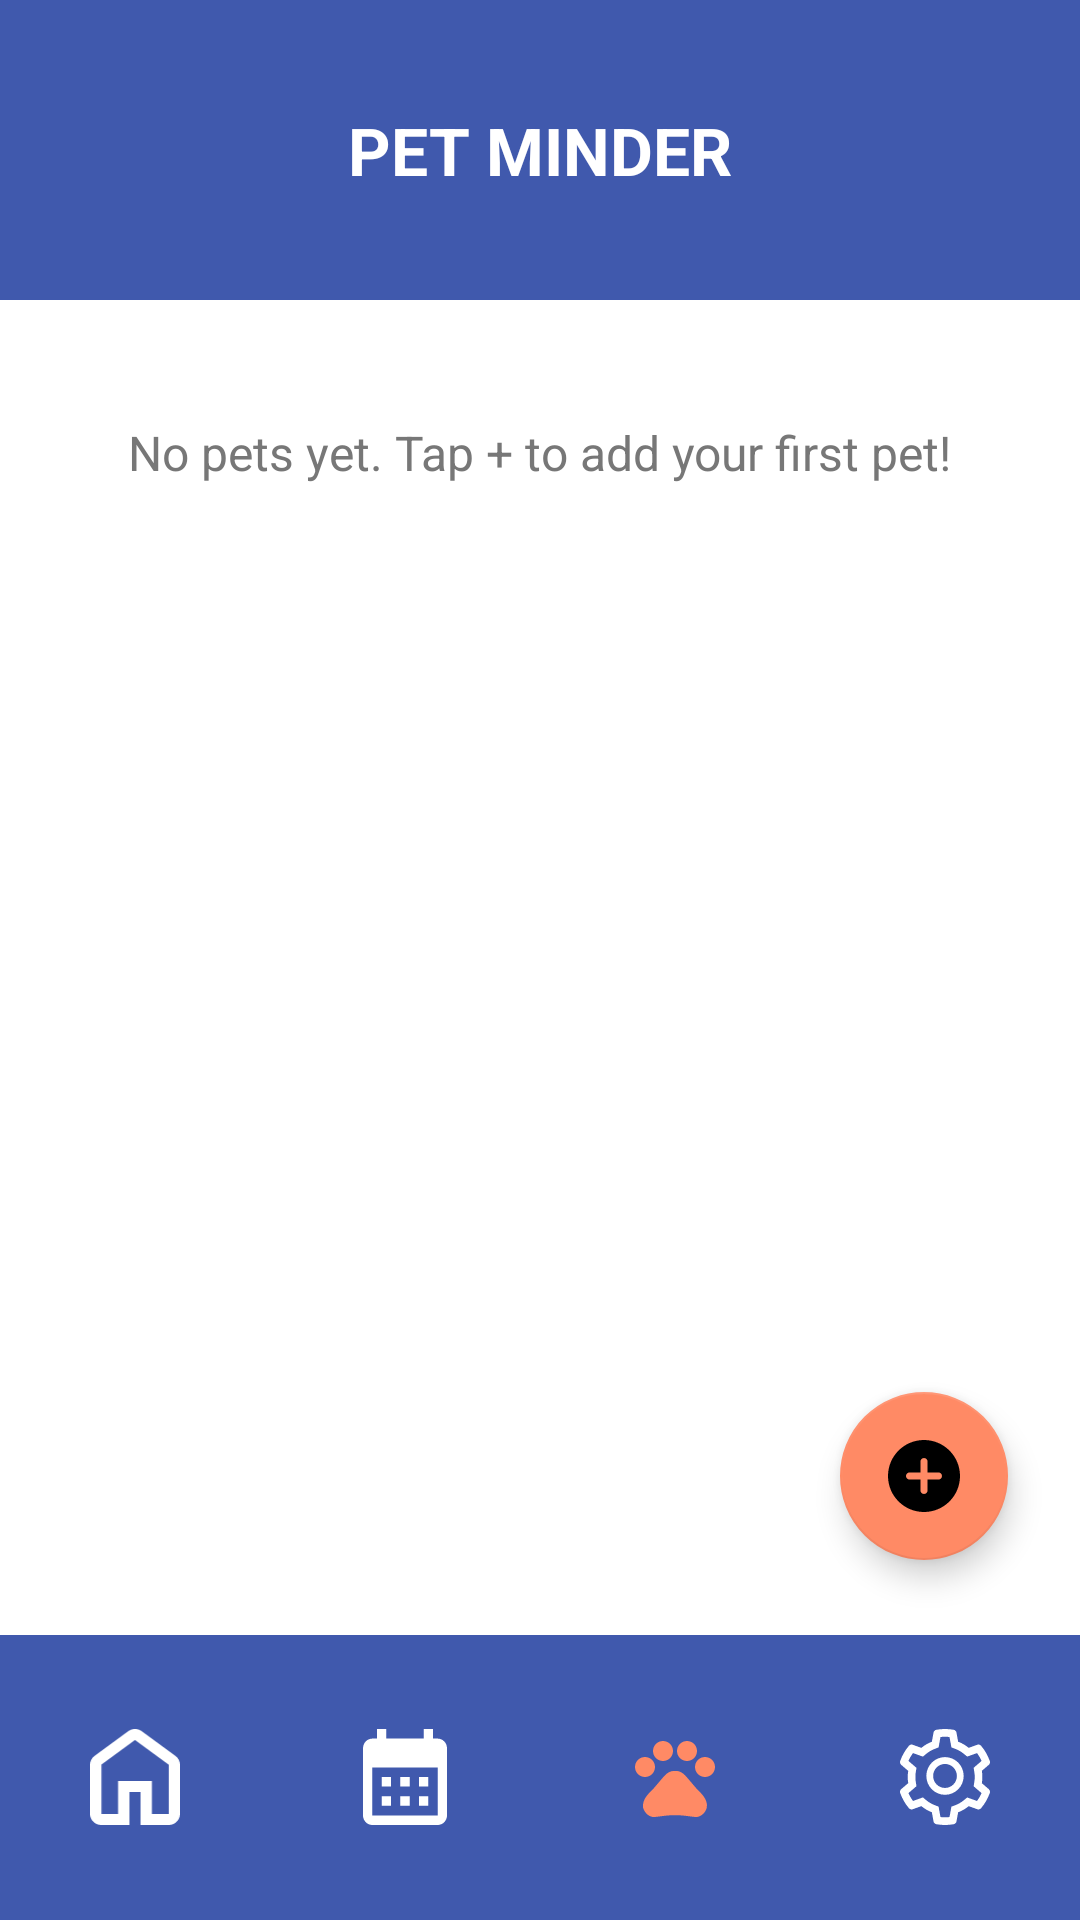

Point at icon controls on the screen. Image size 1080×1920, points as (x=x, y=y).
calendar: (x=405, y=1777)
home: (x=135, y=1777)
pets: (x=675, y=1779)
plus: (x=924, y=1476)
settings: (x=945, y=1777)
